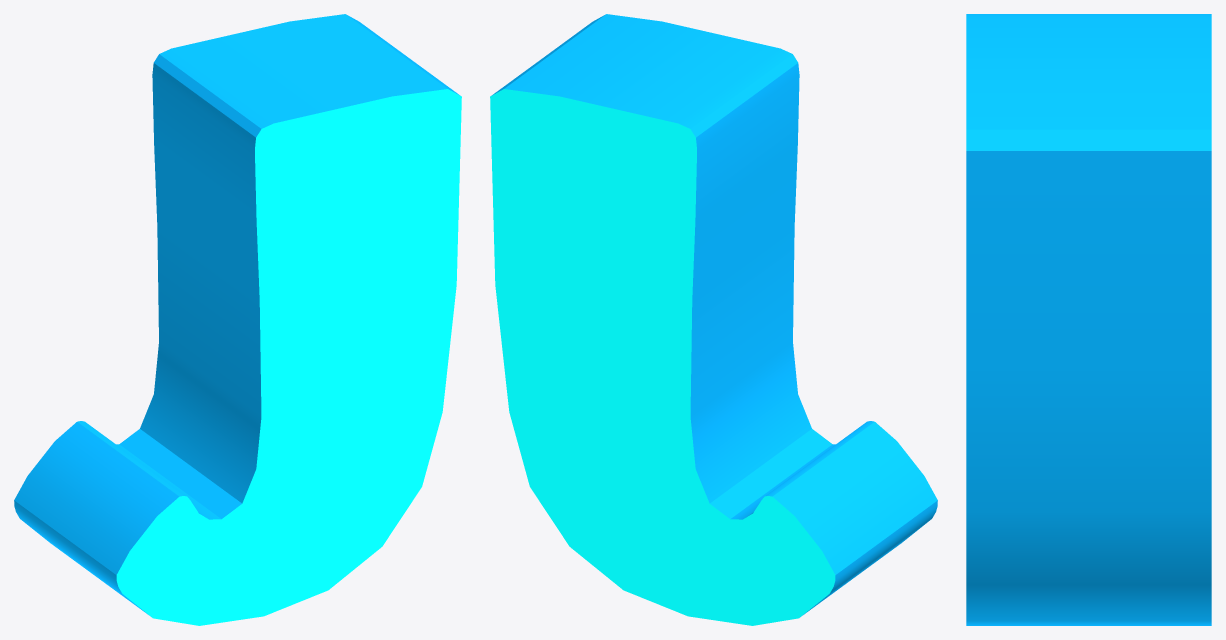
3 views of the same model, side by side, from view 1: azimuth 30°, elevation 25°; view 2: azimuth 150°, elevation 25°; view 3: azimuth 270°, elevation 25° (orthographic). The views are drawn at different scales.
Parts seen in each view (by area): view 1: j; view 2: j; view 3: j.
Part boxes in pixels (left/top/right/bottom): j: left=14, top=14, right=461, bottom=625; j: left=490, top=14, right=937, bottom=625; j: left=966, top=14, right=1211, bottom=625.
Size of what is drawn, in the model's own units: 0.3504 by 0.4756 by 0.18.
